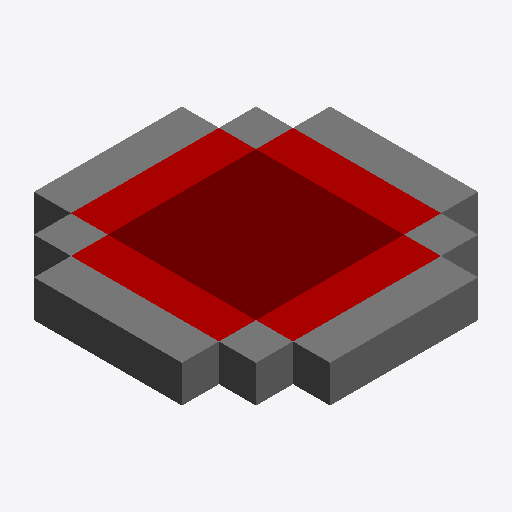
Isometric view (azimuth 45°, elevation 35.3°) of a Minecraft model made of 11 cuboids, textured from the same repository.
Visible parts, largest first — Gem1, Stone5, Stone7, Stone1, Stone3, Gem2, Gem3, Stone6, Stone4, Stone8, Stone2.
Part boxes in pixels (left/top/right/bottom): Gem1: left=72, top=128, right=440, bottom=340; Stone5: left=293, top=256, right=477, bottom=404; Stone7: left=34, top=256, right=218, bottom=404; Stone1: left=34, top=107, right=217, bottom=233; Stone3: left=294, top=107, right=477, bottom=233; Gem2: left=71, top=128, right=254, bottom=233; Gem3: left=257, top=235, right=439, bottom=340; Stone6: left=219, top=320, right=292, bottom=404; Stone4: left=404, top=214, right=477, bottom=276; Stone8: left=34, top=214, right=107, bottom=276; Stone2: left=220, top=107, right=291, bottom=148.
Size of the model in its own units: 8 by 1 by 8.